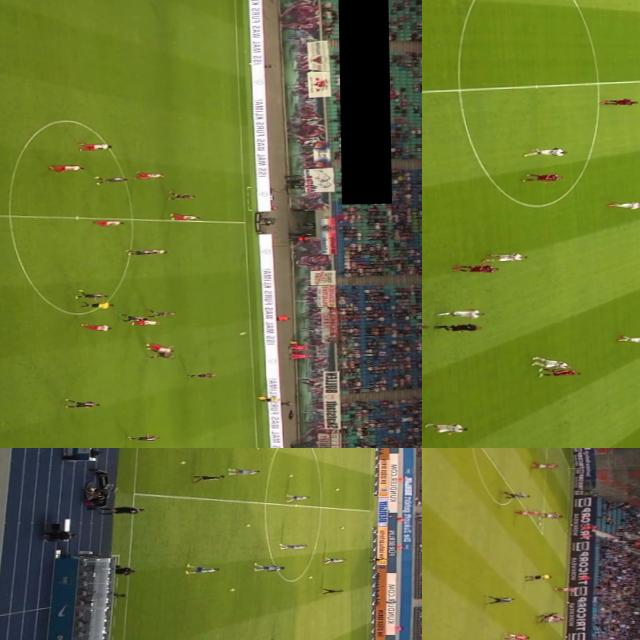ball: (236, 330, 246, 336), (534, 522, 542, 526), (286, 472, 292, 477), (180, 460, 186, 463), (243, 524, 250, 526), (228, 588, 235, 590), (339, 526, 345, 528), (334, 488, 339, 490), (308, 576, 312, 578)
player: (482, 251, 532, 262), (530, 356, 570, 369), (448, 262, 494, 272), (432, 310, 486, 318), (536, 368, 578, 378), (63, 398, 101, 409), (74, 142, 114, 152), (426, 422, 466, 432), (528, 147, 568, 157), (185, 563, 218, 574), (71, 290, 107, 300), (80, 322, 114, 332), (129, 318, 163, 328), (483, 594, 516, 604), (126, 433, 160, 442), (606, 200, 640, 209), (47, 164, 85, 172), (527, 462, 560, 471), (604, 96, 636, 105), (224, 466, 260, 474), (147, 349, 175, 359), (615, 333, 640, 344), (250, 562, 284, 570), (190, 474, 224, 482), (504, 491, 534, 500), (124, 248, 156, 256), (526, 172, 558, 180), (167, 213, 202, 220), (117, 314, 147, 322), (136, 171, 170, 178), (500, 632, 529, 640), (144, 344, 176, 351), (94, 176, 125, 183), (95, 220, 126, 227), (147, 310, 178, 317), (537, 510, 561, 519), (138, 248, 168, 255), (276, 543, 306, 550), (186, 372, 218, 378), (540, 615, 564, 623), (168, 192, 198, 198), (320, 557, 346, 563), (552, 586, 578, 592), (513, 510, 539, 516), (321, 588, 343, 594), (282, 495, 308, 500), (537, 613, 558, 619), (269, 637, 301, 640)
